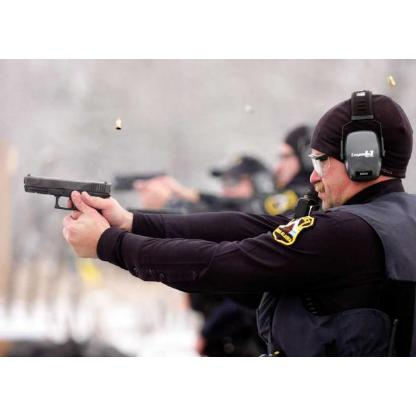gun: (22, 171, 112, 262)
